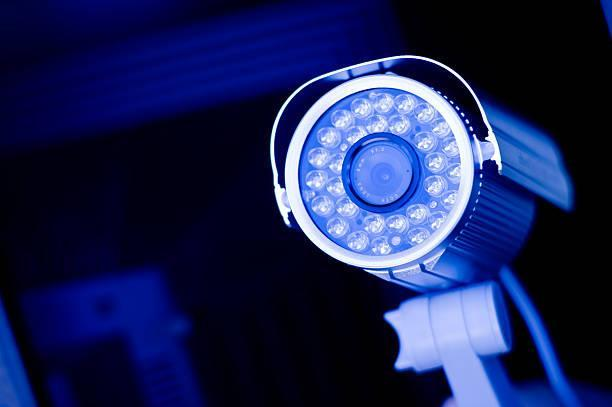camera: (229, 45, 571, 304)
